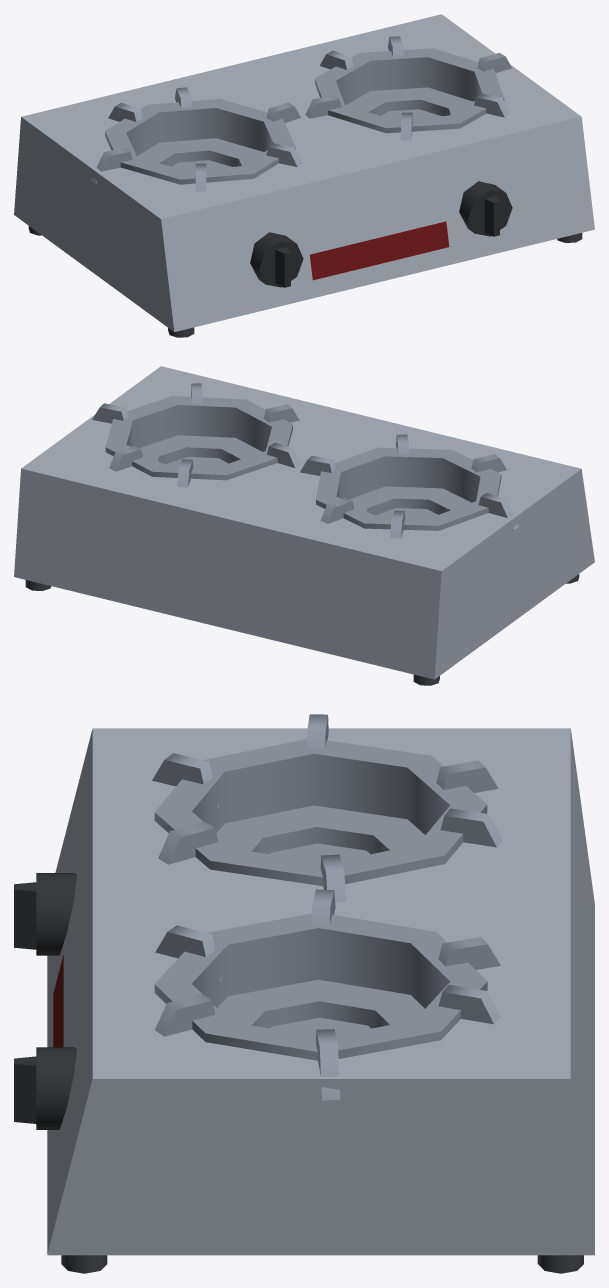
Rendered from Stove.glb.
3 views of the same model, one above another, from view 1: azimuth 30°, elevation 25°; view 2: azimuth 150°, elevation 25°; view 3: azimuth 270°, elevation 25° (orthographic). The views are drawn at different scales.
Parts seen in each view (by area): view 1: appliance_stove.001_Cube.282, appliance_stove_knob.002_Cube.283, appliance_stove_knob.001_Cube.284; view 2: appliance_stove.001_Cube.282; view 3: appliance_stove.001_Cube.282, appliance_stove_knob.001_Cube.284, appliance_stove_knob.002_Cube.283.
Boxes of the visible parts, bbox=[...] form: appliance_stove.001_Cube.282: bbox=[14, 14, 594, 337]; appliance_stove_knob.002_Cube.283: bbox=[250, 232, 303, 287]; appliance_stove_knob.001_Cube.284: bbox=[459, 181, 512, 236]; appliance_stove.001_Cube.282: bbox=[14, 366, 594, 685]; appliance_stove.001_Cube.282: bbox=[47, 714, 594, 1273]; appliance_stove_knob.001_Cube.284: bbox=[14, 1047, 76, 1129]; appliance_stove_knob.002_Cube.283: bbox=[14, 873, 76, 955].
Bounding box in the file's own units: 13.28 × 3.86 × 9.19.
Materials: 1 (1 with a texture image).
